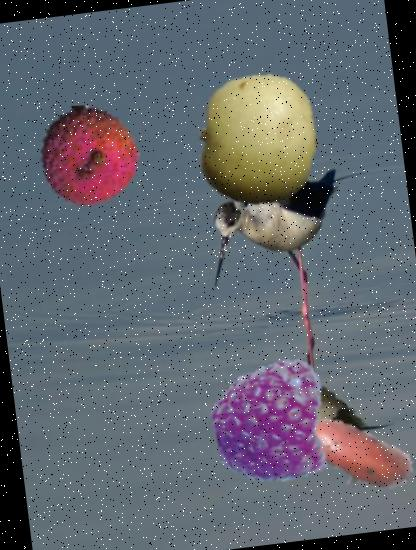Apple: (183, 65, 334, 214)
Banana: (265, 365, 416, 525)
Lychee: (31, 100, 146, 214)
Raspberry: (202, 354, 340, 492)
